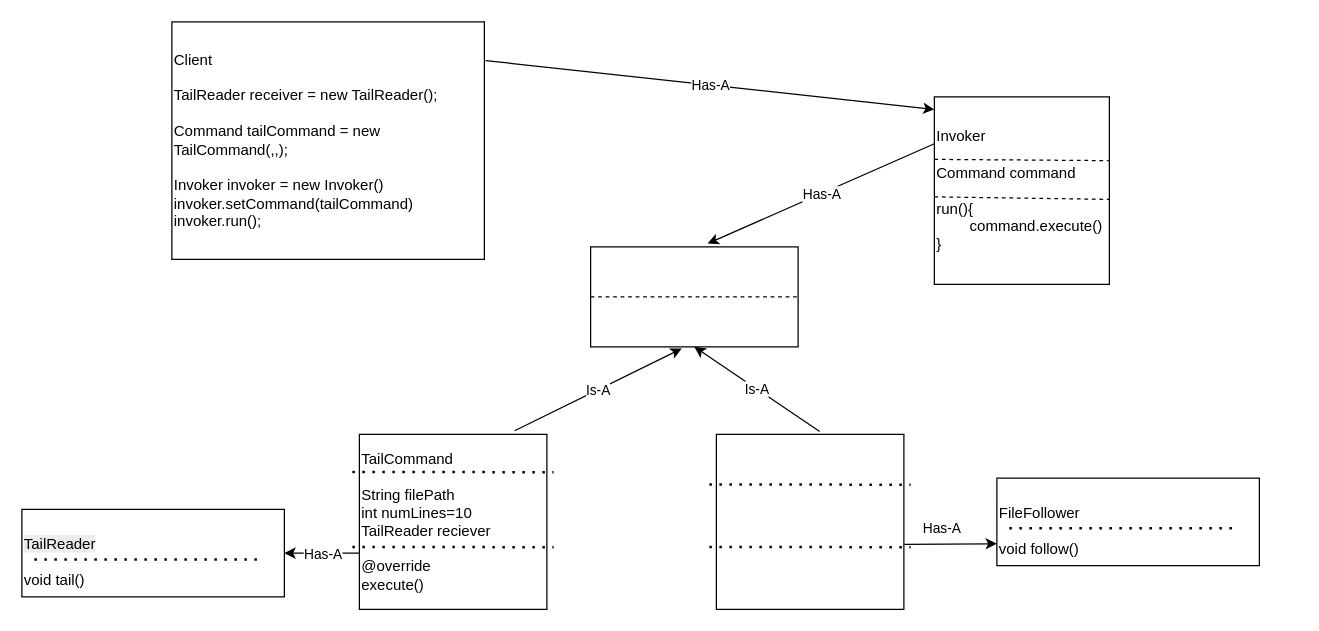
The diagram is 1319 pixels wide and 631 high, and some of its shapes have lost their labels. Here are the shapes that lost their labels. From the top down, the centre of each, then its label:
At pixel 693 296: "<<interface command>> void execute();".
At pixel 809 521: "FollowCommand String filePath FileFollowe fileFollower @override execute()".
